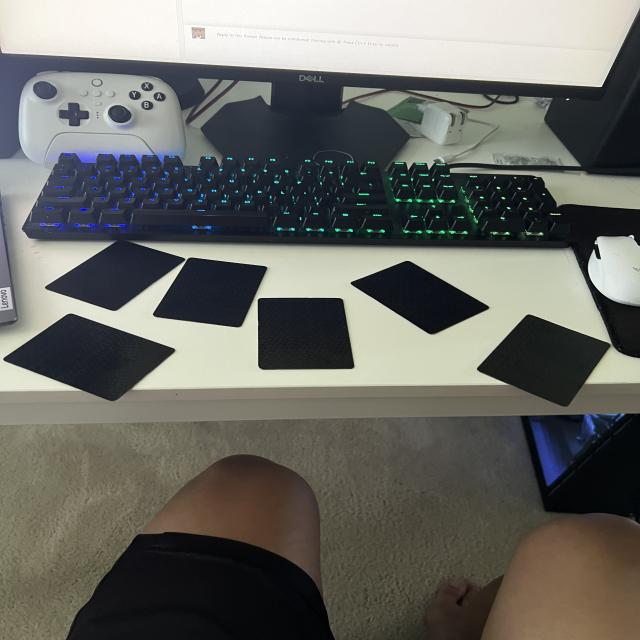BACK: (4, 307, 186, 409), (477, 309, 612, 412), (348, 259, 493, 340), (46, 237, 188, 313), (255, 293, 365, 375), (151, 256, 271, 330)
